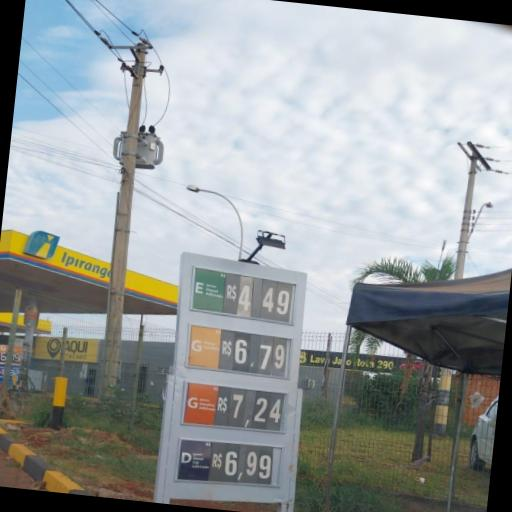ETANOL: (194, 268, 226, 309)
GASOLINA AD: (184, 382, 217, 423)
GASOLINA C: (188, 325, 221, 368)
S10: (178, 439, 211, 479)
placa: (163, 252, 308, 502)
preco: (237, 274, 293, 321), (229, 389, 286, 433), (233, 333, 288, 376), (223, 444, 273, 484)
